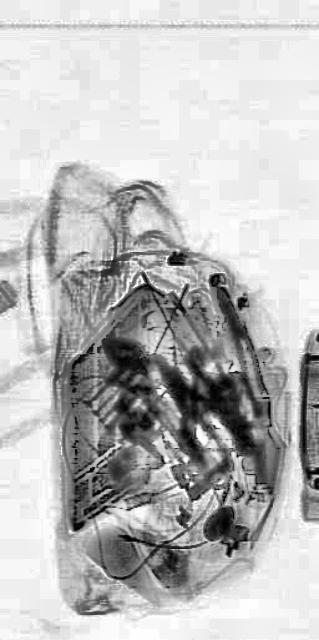Pliers: (208, 272, 272, 416)
